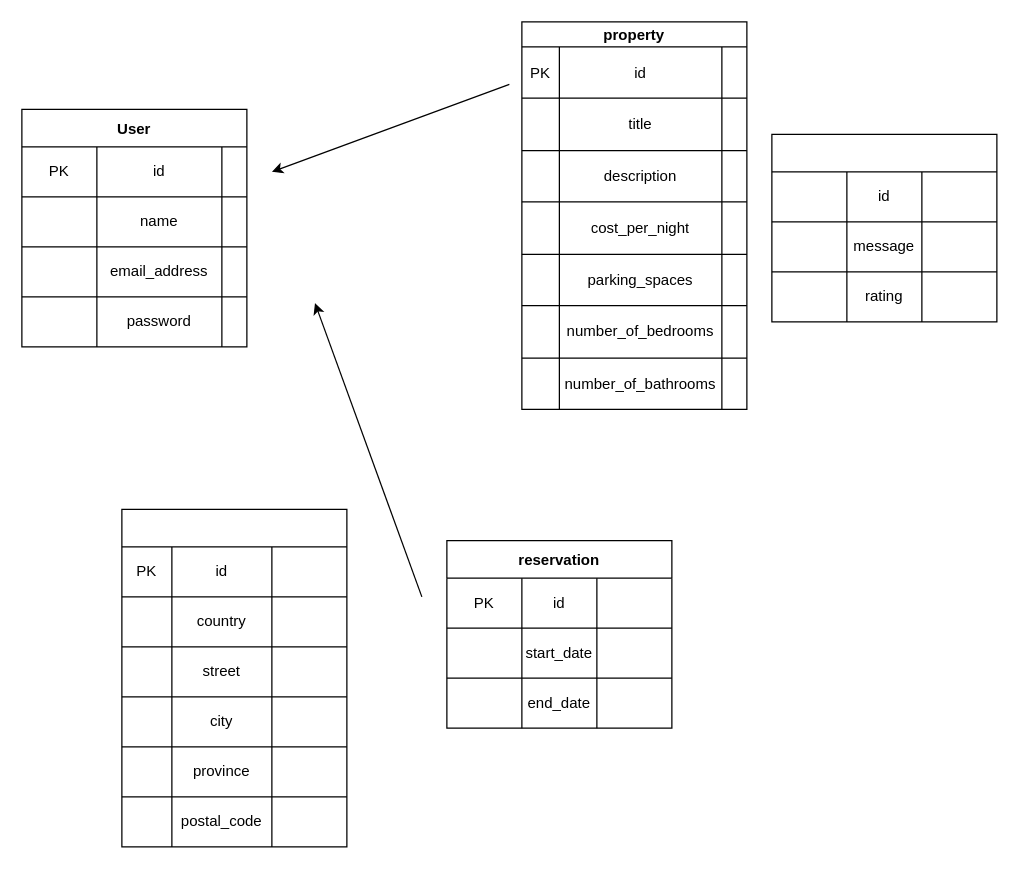
Image size: 1019x869. Some labels were removed from this diagram. Each missing label, with the box of its shape:
property_location: (121, 508, 347, 847)
property_review: (771, 133, 997, 322)
